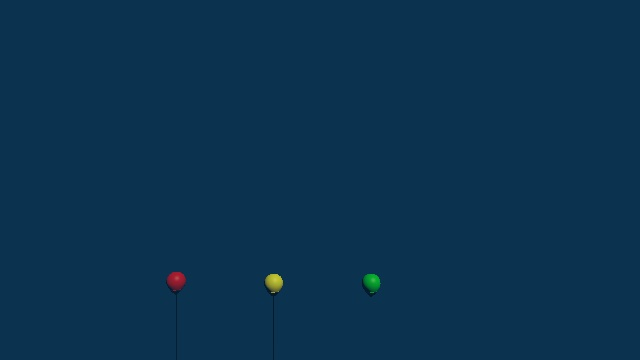buoy_green: (361, 271, 382, 297)
buoy_red: (165, 271, 185, 293)
